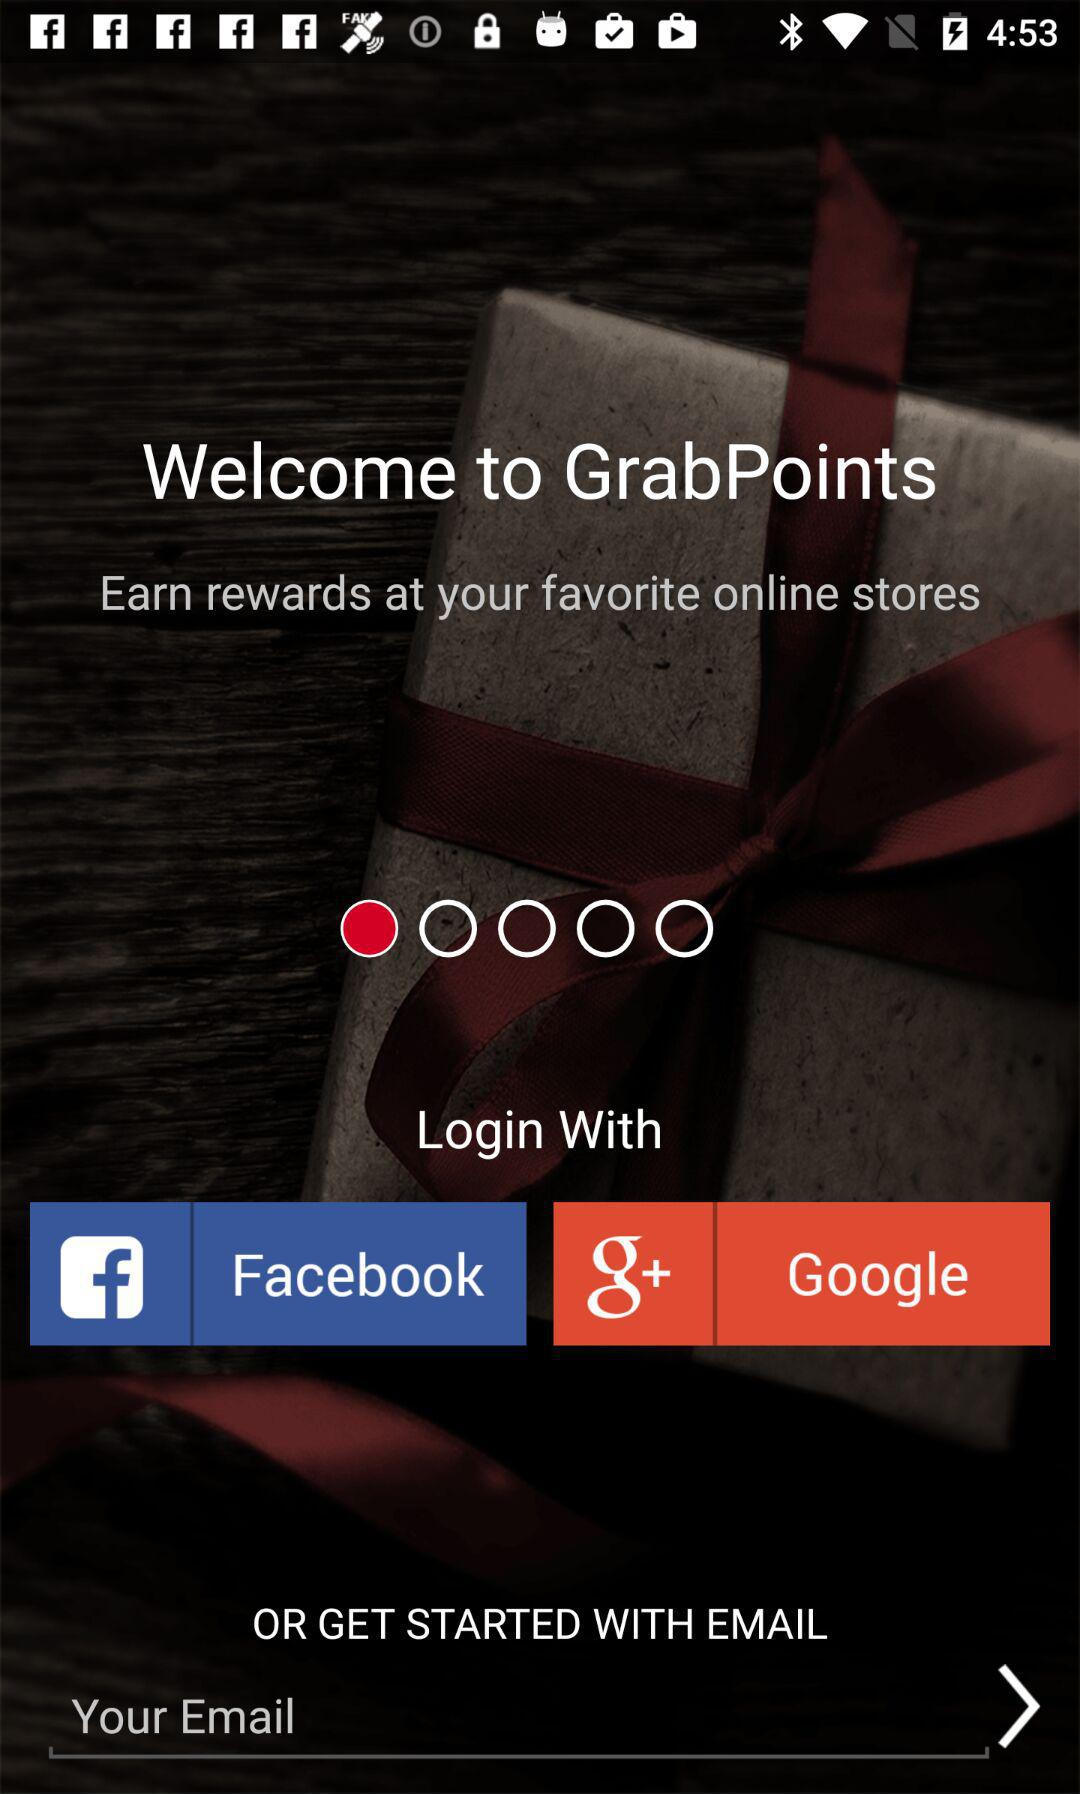BackgroundImage: (1, 62, 1080, 1794)
EditText: (49, 1697, 990, 1759)
Icon: (997, 1663, 1042, 1749)
PageIndicator: (338, 896, 717, 964)
Text: (142, 440, 937, 502), (102, 573, 981, 621), (252, 1607, 829, 1642), (418, 1107, 662, 1162), (73, 1697, 293, 1735)
TextButton: (29, 1202, 527, 1347), (553, 1202, 1051, 1347)
UpperTaskBar: (1, 1, 1080, 62)
